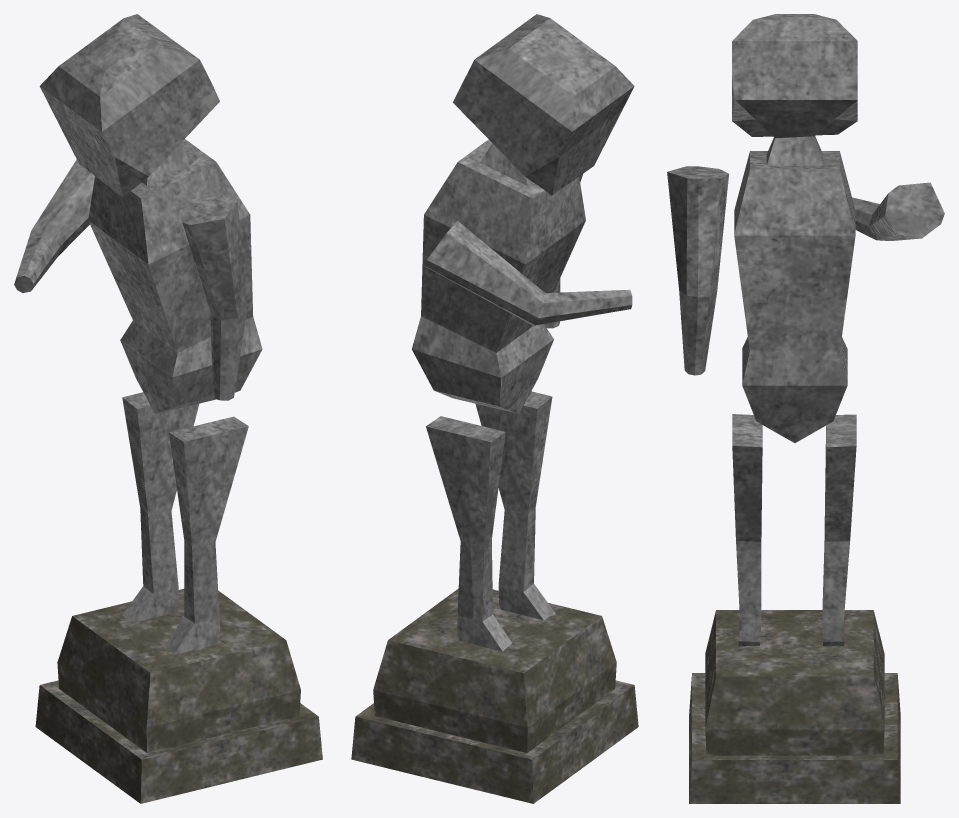
Rendered from Totem_B.fbx.
3 views of the same model, side by side, from view 1: azimuth 30°, elevation 25°; view 2: azimuth 150°, elevation 25°; view 3: azimuth 270°, elevation 25° (orthographic).
Parts seen in each view (by area): view 1: Totem_B; view 2: Totem_B; view 3: Totem_B.
Boxes of the visible parts, x1,y1,x2,y2 form: Totem_B: [14, 14, 322, 803]; Totem_B: [351, 14, 638, 803]; Totem_B: [667, 14, 944, 803].
Size of the model in its own units: 336 by 951 by 331.
Materials: 2 (2 with a texture image).
